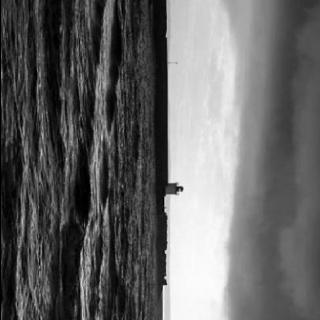Nimbostratus: (168, 0, 320, 320)
